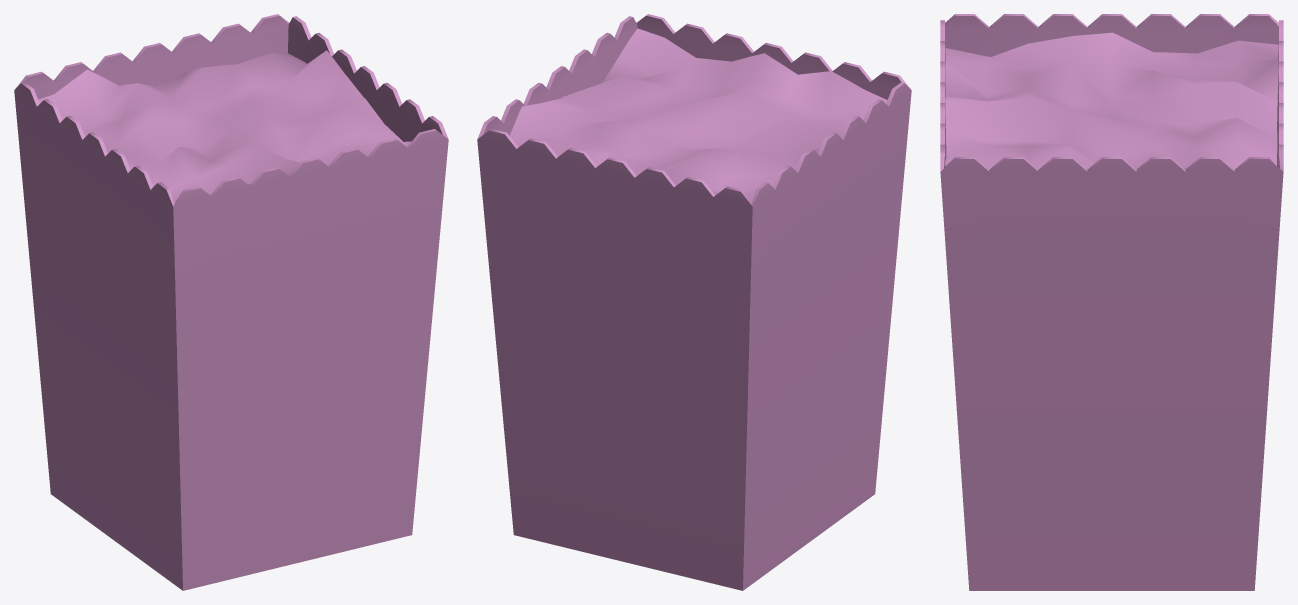
The model's file is Popcorn.FBX.
The picture shows the model from 3 angles, left to right: view 1: azimuth 30°, elevation 25°; view 2: azimuth 150°, elevation 25°; view 3: azimuth 270°, elevation 25°; orthographic projection. The views are drawn at different scales.
Visible parts, largest first — view 1: Popcorn; view 2: Popcorn; view 3: Popcorn.
Part boxes in pixels (bbox=[...]): Popcorn: bbox=[14, 14, 448, 590]; Popcorn: bbox=[477, 14, 911, 590]; Popcorn: bbox=[940, 14, 1283, 590].
Size of the model in its own units: 14.43 by 20.6 by 14.43.
